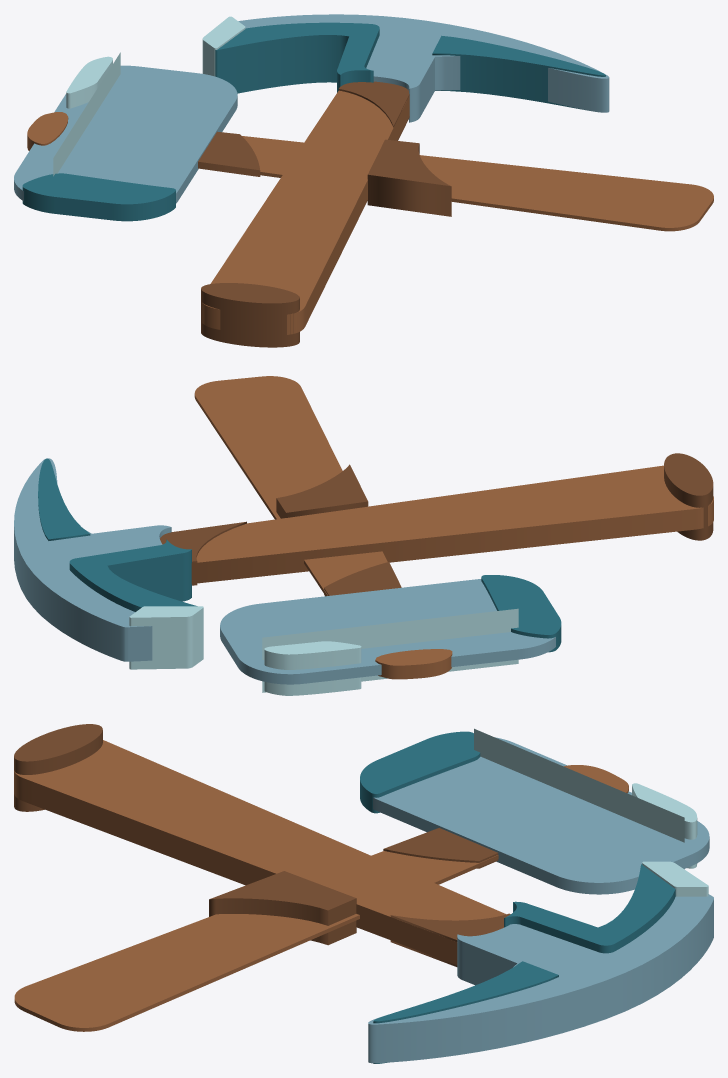
The model's file is emoji_u2692.glb.
3 views of the same model, one above another, from view 1: azimuth 30°, elevation 25°; view 2: azimuth 150°, elevation 25°; view 3: azimuth 270°, elevation 25° (orthographic). The views are drawn at different scales.
Parts seen in each view (by area): view 1: emoji_u2692; view 2: emoji_u2692; view 3: emoji_u2692.
Part boxes in pixels (<box>): emoji_u2692: <box>14,14,713,347</box>; emoji_u2692: <box>14,376,713,695</box>; emoji_u2692: <box>14,724,713,1063</box>.
Size of the model in its own units: 0.0336 by 0.0032 by 0.0328.
